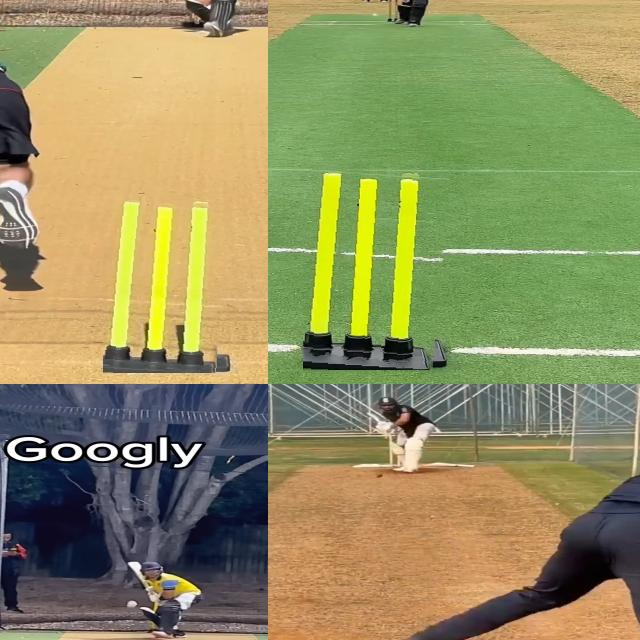Cricket ball: (127, 600, 138, 608), (372, 12, 382, 18), (375, 472, 383, 478)
Stumps: (303, 167, 450, 370), (103, 197, 231, 373)
